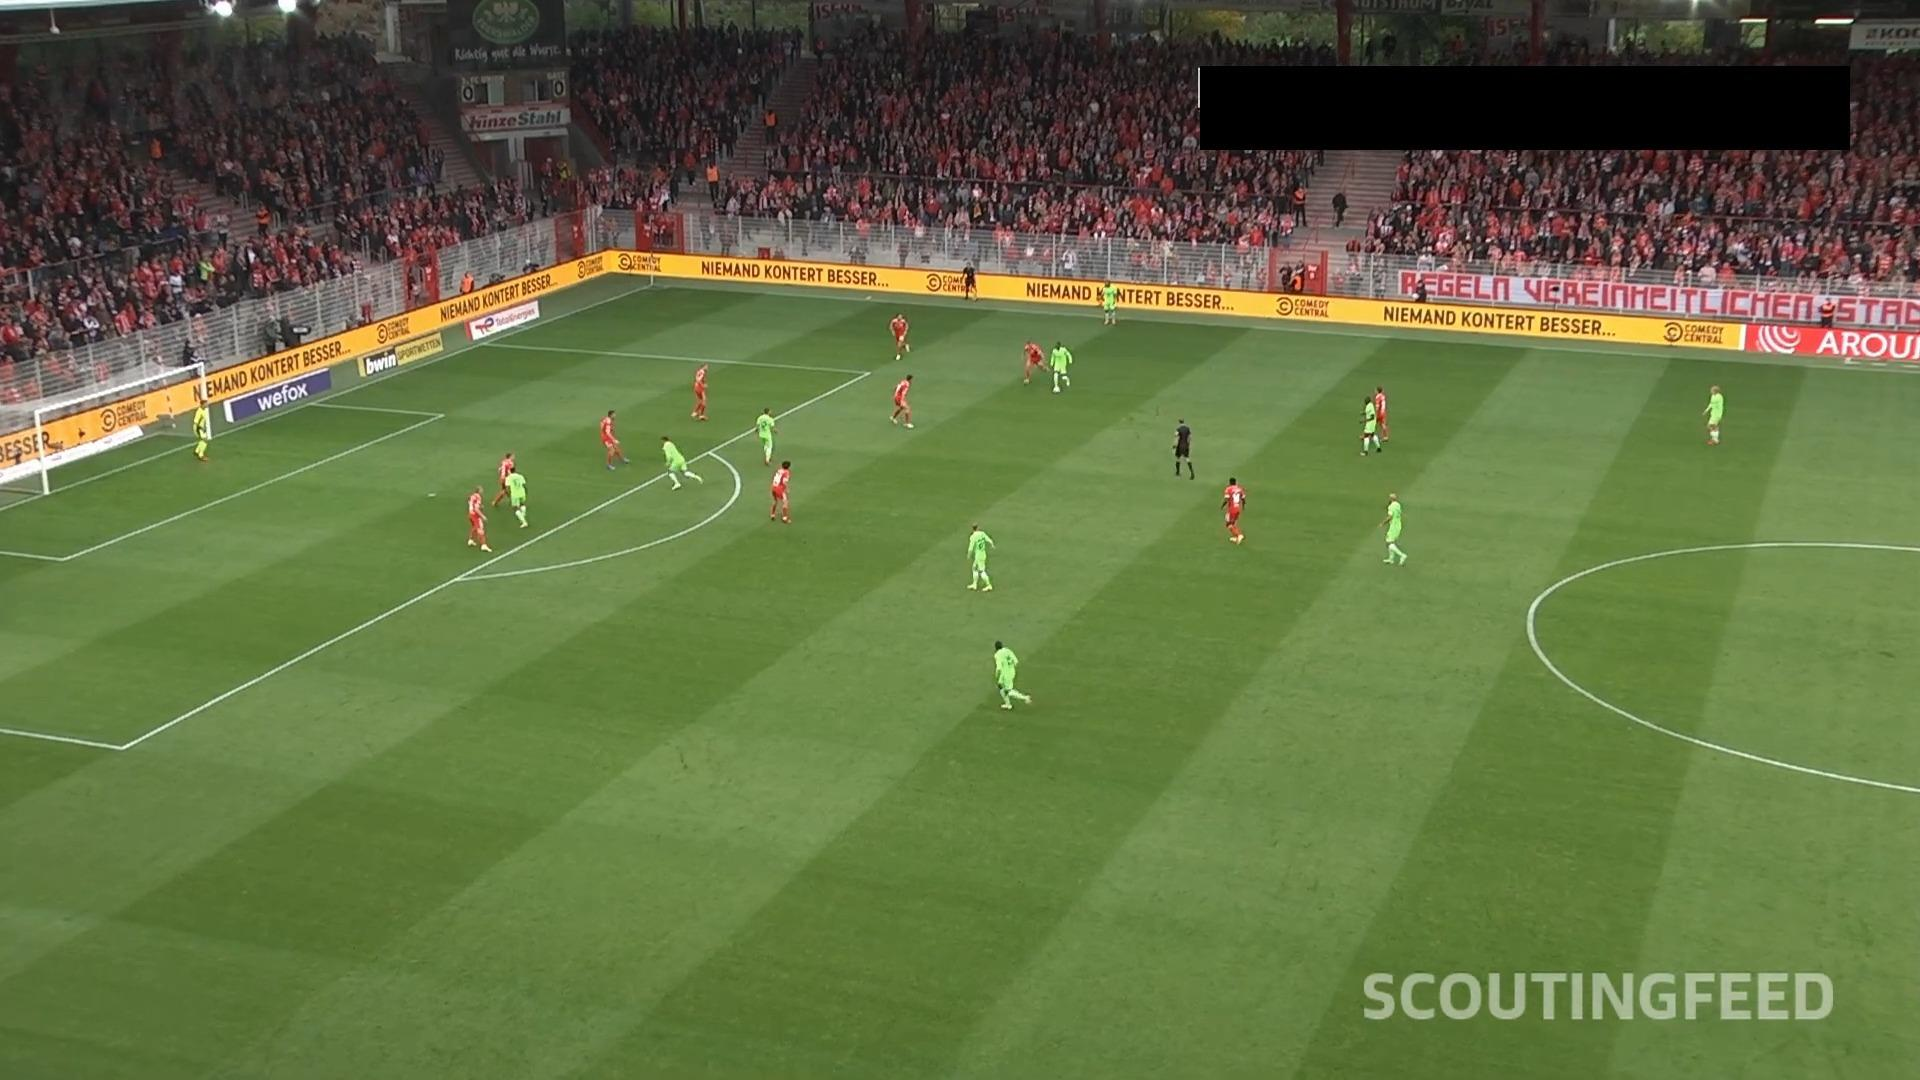ball: (1050, 384, 1062, 396)
